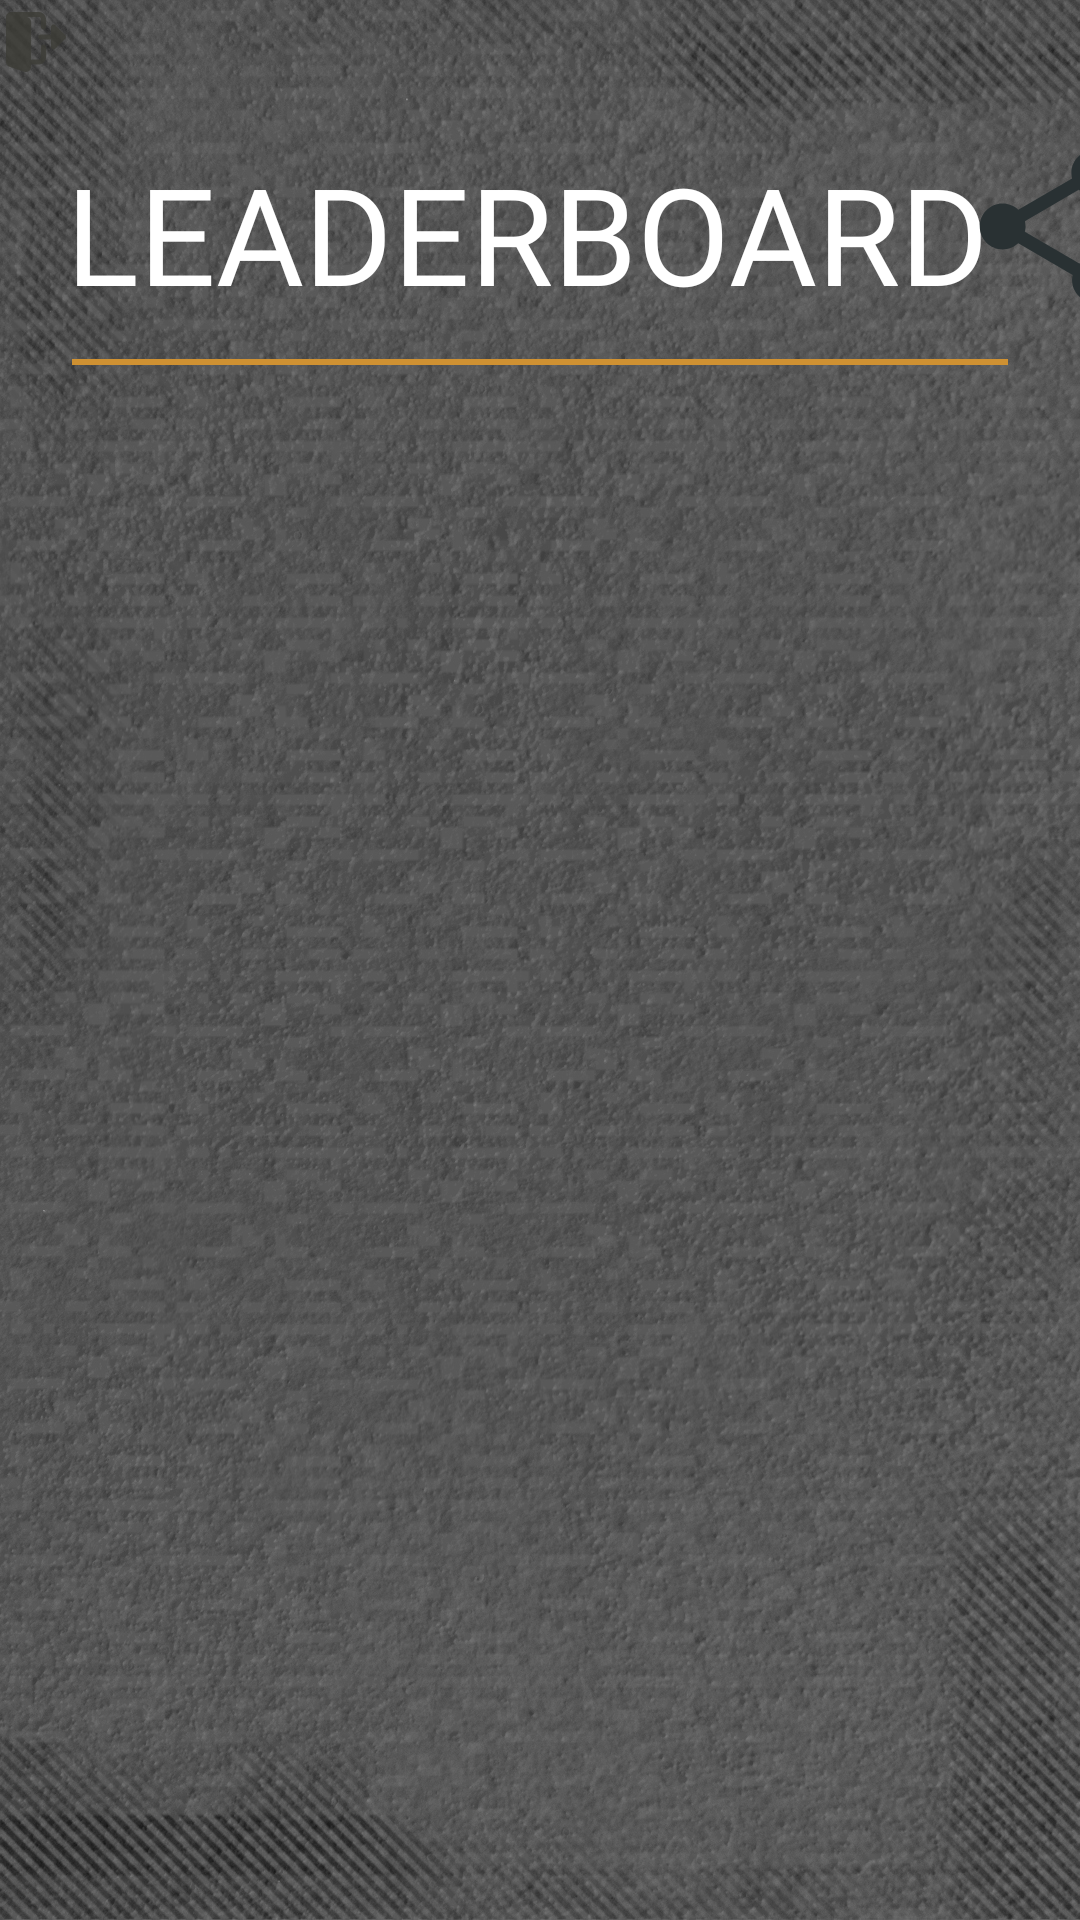

Icon click points for this 1080 x 1920 phone screenshot, format [x,y]:
back: [36,42]
